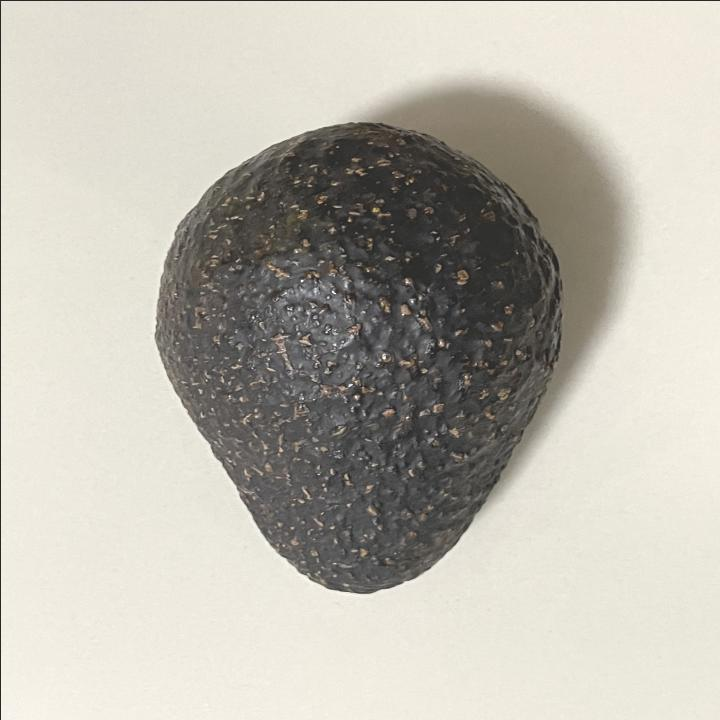Level2: (147, 114, 570, 602)
